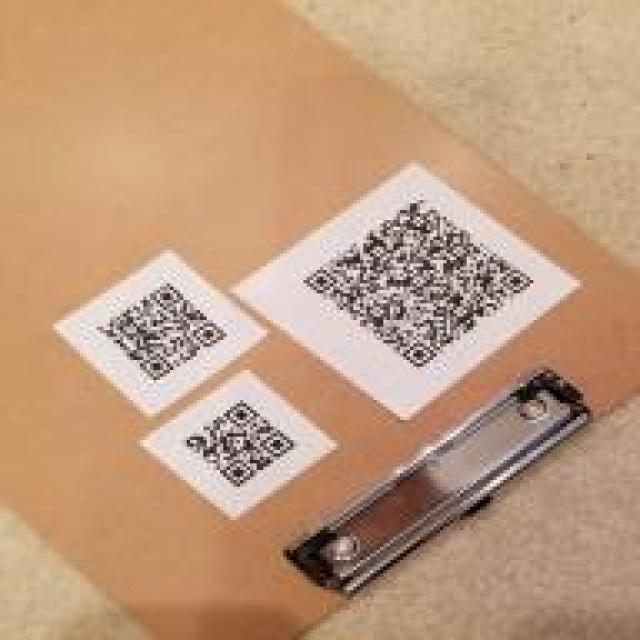QR_CODE: (286, 186, 542, 376), (83, 257, 235, 390), (174, 393, 308, 497)
